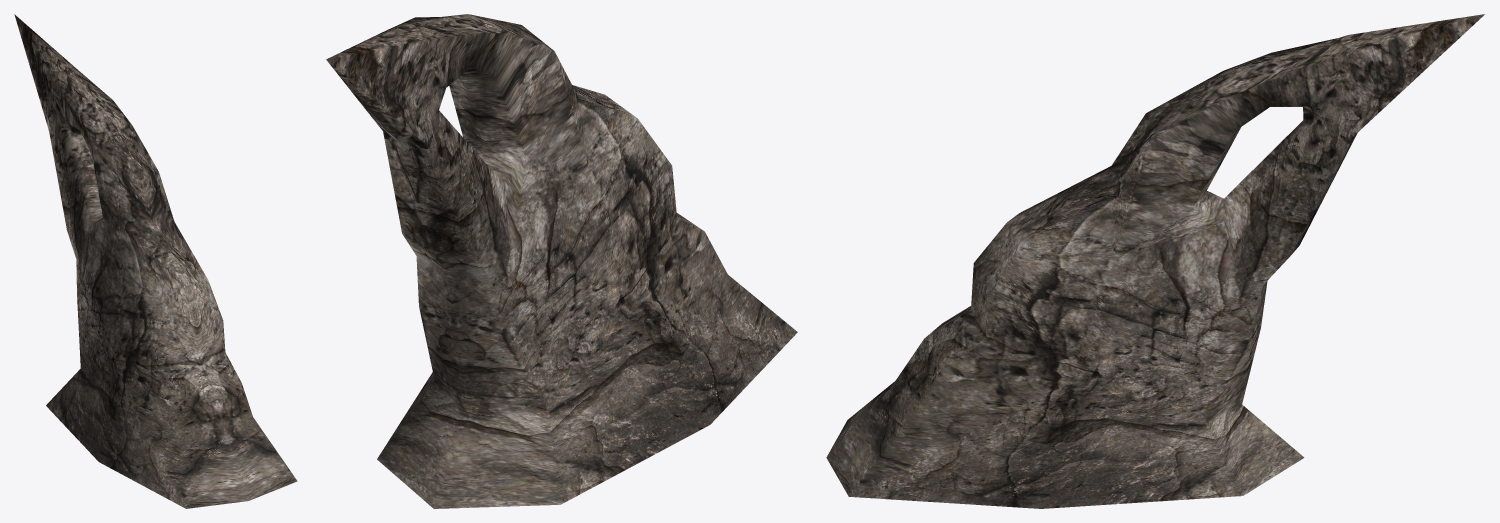
The model's file is Ext_Scortch_02.FBX.
3 views of the same model, side by side, from view 1: azimuth 30°, elevation 25°; view 2: azimuth 150°, elevation 25°; view 3: azimuth 270°, elevation 25° (orthographic). The views are drawn at different scales.
Parts seen in each view (by area): view 1: Ext_Scortch_02; view 2: Ext_Scortch_02; view 3: Ext_Scortch_02.
Part boxes in pixels (box(x1,y1,x2,y2)): Ext_Scortch_02: box(14, 14, 297, 508); Ext_Scortch_02: box(326, 14, 797, 508); Ext_Scortch_02: box(826, 14, 1484, 508).
Size of the model in its own units: 3410 by 6987 by 9408.
